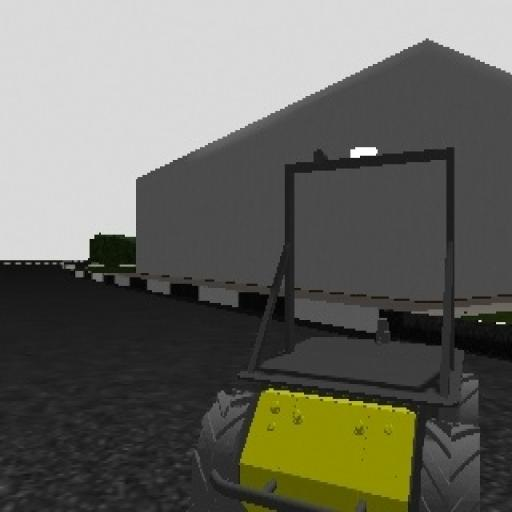huskya200: (166, 138, 495, 512)
